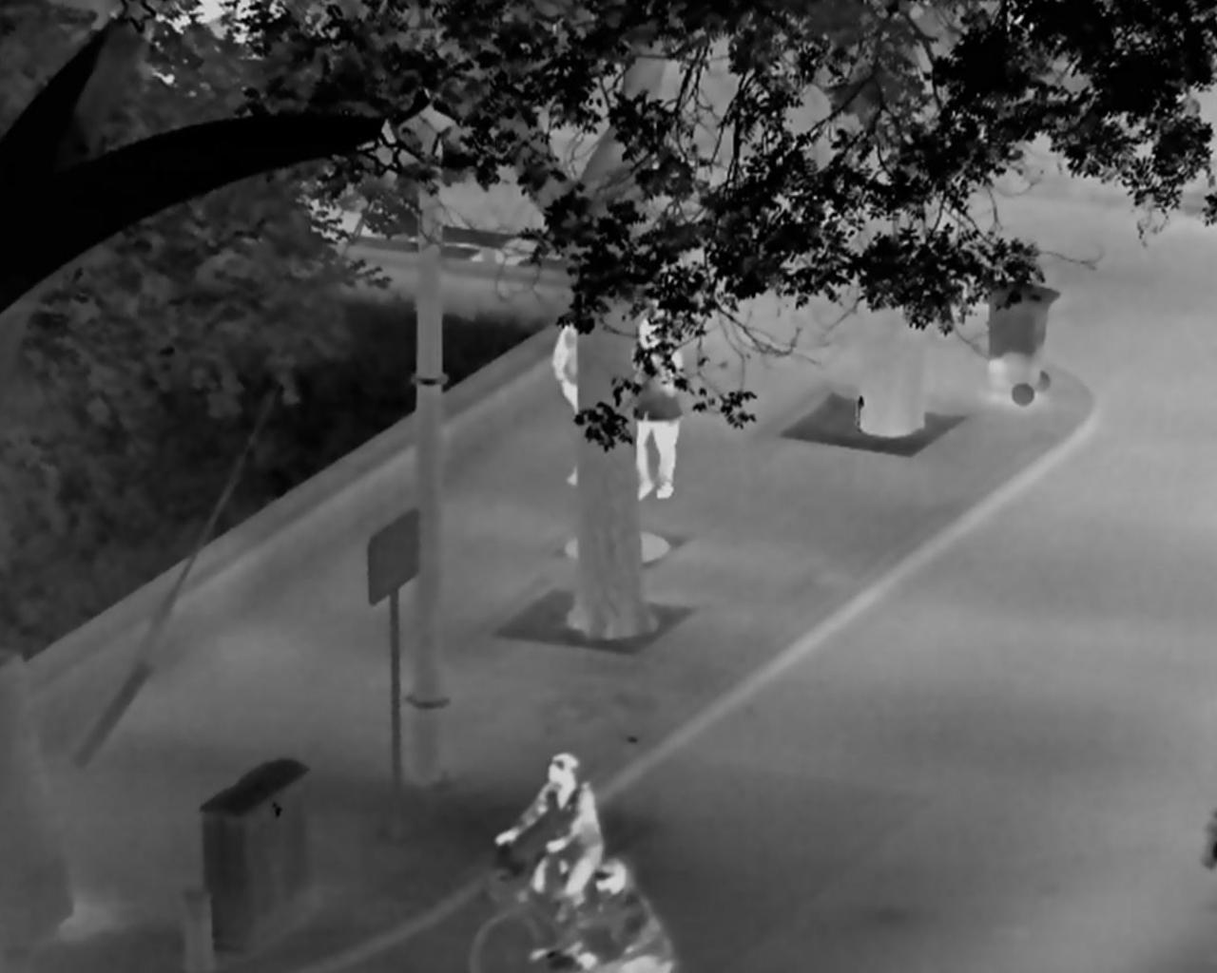person: (493, 751, 602, 921), (529, 857, 680, 973), (632, 310, 684, 500), (550, 315, 578, 486)
